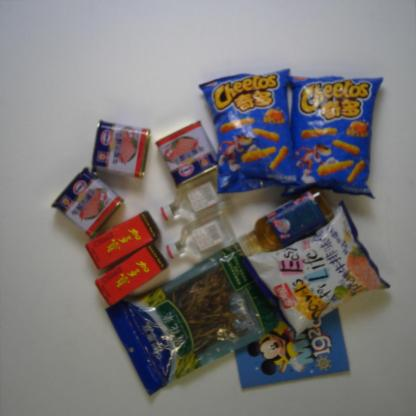Alcohol: (159, 160, 241, 223), (165, 210, 236, 262)
Canned Food: (49, 163, 124, 241), (154, 119, 220, 188), (87, 119, 152, 178)
Dried Food: (101, 238, 291, 397)
Drink: (236, 188, 336, 258), (93, 244, 169, 308), (85, 210, 163, 271)
Puffed Food: (237, 199, 391, 341), (277, 73, 384, 199), (198, 67, 296, 195)
Stationery: (230, 298, 350, 390)
